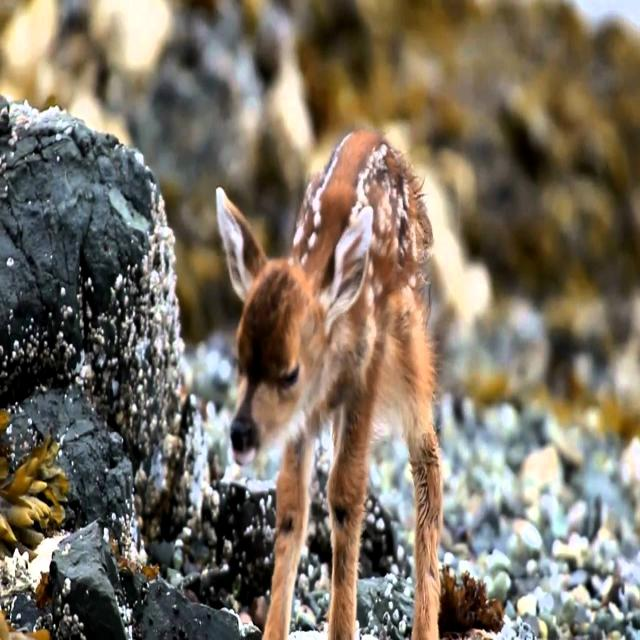deer: (190, 159, 380, 447)
